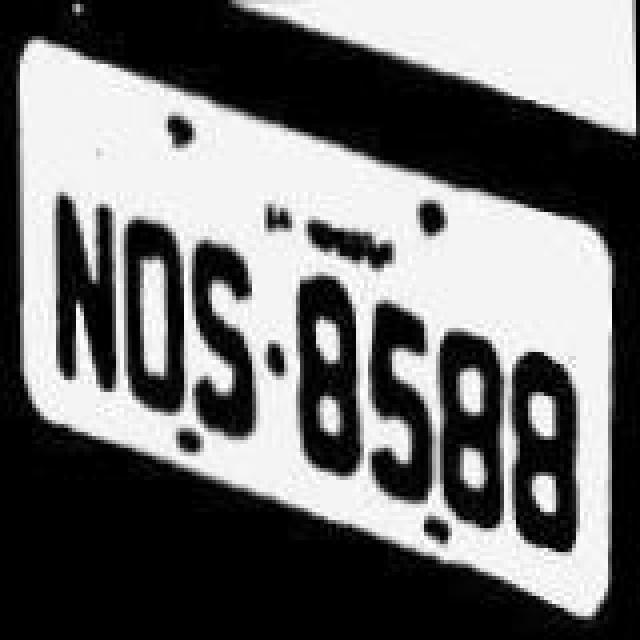5: (364, 276, 440, 508)
8: (508, 316, 592, 564), (434, 294, 514, 530), (286, 268, 366, 488)
N: (40, 180, 120, 404)
O: (116, 202, 188, 426)
S: (188, 232, 268, 440)
